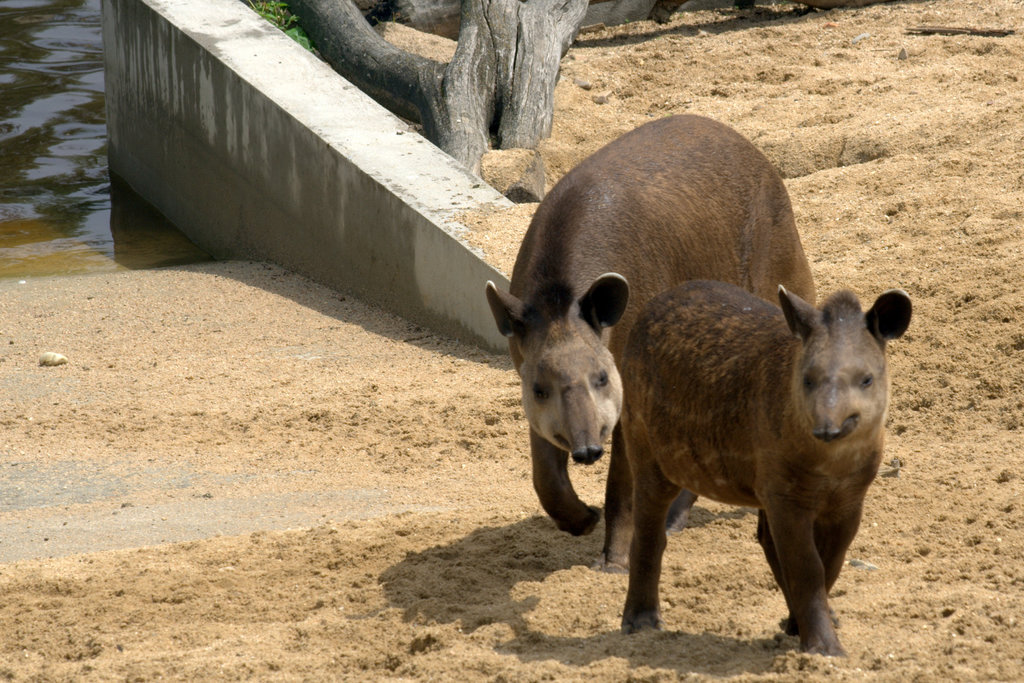Tree: (278, 0, 589, 179)
